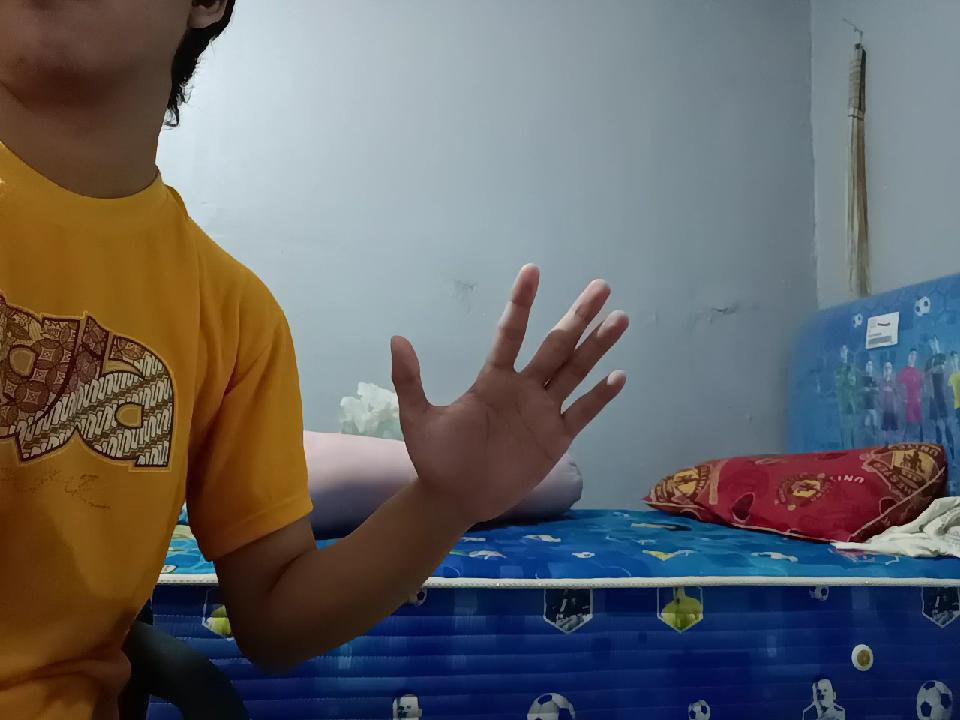paper: (363, 240, 622, 544)
